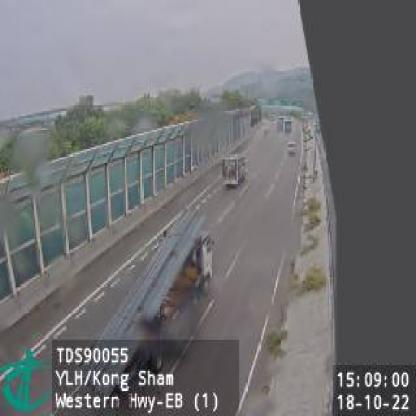Car: (287, 141, 297, 156)
Truck: (66, 231, 216, 386), (221, 150, 248, 189)
